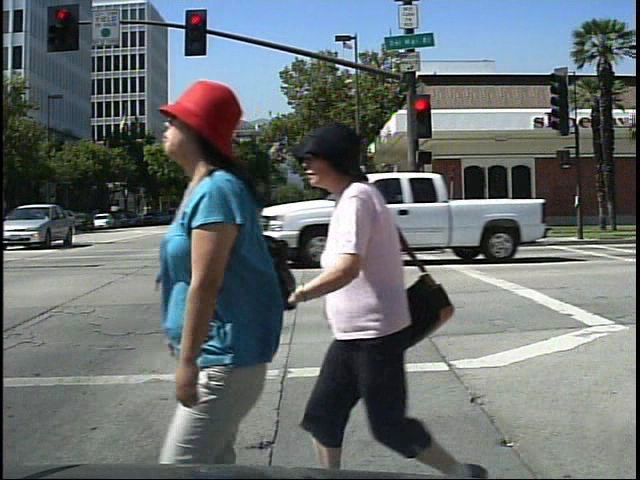person: (101, 66, 301, 471), (301, 114, 480, 478)
